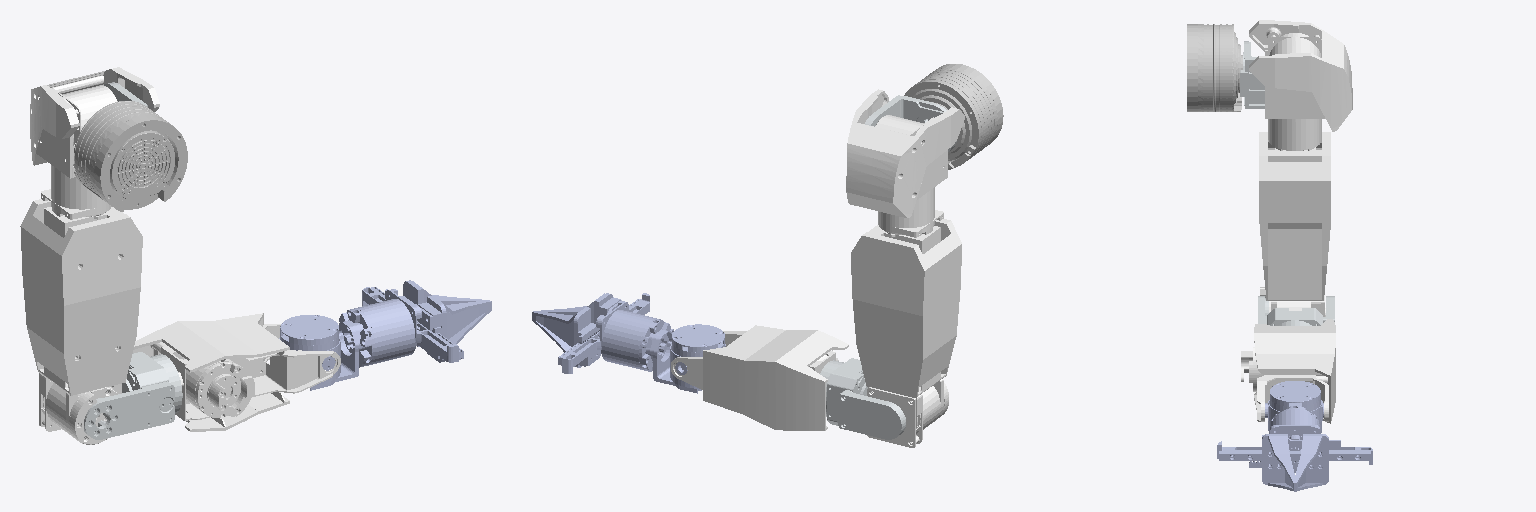
robot.urdf — X78009LEFTB:
<?xml version="1.0" encoding="utf-8"?>
<!-- This URDF was automatically created by SolidWorks to URDF Exporter! Originally created by [author] ([email redacted]) 
     Commit Version: 1.6.0-4-g7f85cfe  Build Version: 1.6.7995.38578
     For more information, please see http://wiki.ros.org/sw_urdf_exporter -->
<robot
  name="X78009LEFTB">
  <link
    name="base_link">
    <inertial>
      <origin
        xyz="-8.1774E-05 0.031222 0.00027074"
        rpy="0 0 0" />
      <mass
        value="0.98057" />
      <inertia
        ixx="0.00080"
        ixy="0.00000"
        ixz="0.00000"
        iyy="0.00117"
        iyz="-0.00003"
        izz="0.00081" />
    </inertial>
    <visual>
      <origin
        xyz="0 0 0"
        rpy="0 0 0" />
      <geometry>
        <mesh
          filename="package://X78009LEFTB/meshes/base_link.STL" />
      </geometry>
      <material
        name="">
        <color
          rgba="0.84706 0.84706 0.84706 1" />
      </material>
    </visual>
    <collision>
      <origin
        xyz="0 0 0"
        rpy="0 0 0" />
      <geometry>
        <mesh
          filename="package://X78009LEFTB/meshes/base_link.STL" />
      </geometry>
    </collision>
  </link>
  <link
    name="link1">
    <inertial>
      <origin
        xyz="0.022412 0.024326 -4.8572E-17"
        rpy="0 0 0" />
      <mass
        value="0.12945" />
      <inertia
        ixx="0.00012"
        ixy="0.00003"
        ixz="0.00000"
        iyy="0.00008"
        iyz="0.00000"
        izz="0.00013" />
    </inertial>
    <visual>
      <origin
        xyz="0 0 0"
        rpy="0 0 0" />
      <geometry>
        <mesh
          filename="package://X78009LEFTB/meshes/link1.STL" />
      </geometry>
      <material
        name="">
        <color
          rgba="0.89804 0.91765 0.92941 1" />
      </material>
    </visual>
    <collision>
      <origin
        xyz="0 0 0"
        rpy="0 0 0" />
      <geometry>
        <mesh
          filename="package://X78009LEFTB/meshes/link1.STL" />
      </geometry>
    </collision>
  </link>
  <joint
    name="joint1"
    type="revolute">
    <origin
      xyz="0 0.0617 0"
      rpy="0 0 0" />
    <parent
      link="base_link" />
    <child
      link="link1" />
    <axis
      xyz="0 1 0" />
    <limit
      lower="-10"
      upper="10"
      effort="100"
      velocity="1000" />
  </joint>
  <link
    name="link2">
    <inertial>
      <origin
        xyz="0.0247134210687121 -0.00294496183639092 -0.027169062592597"
        rpy="0 0 0" />
      <mass
        value="0.974393846684392" />
      <inertia
        ixx="0.00152"
        ixy="0.00002"
        ixz="-0.00007"
        iyy="0.00152"
        iyz="-0.00003"
        izz="0.00073" />
    </inertial>
    <visual>
      <origin
        xyz="0 0 0"
        rpy="0 0 0" />
      <geometry>
        <mesh
          filename="package://X78009LEFTB/meshes/link2.STL" />
      </geometry>
      <material
        name="">
        <color
          rgba="1 1 1 1" />
      </material>
    </visual>
    <collision>
      <origin
        xyz="0 0 0"
        rpy="0 0 0" />
      <geometry>
        <mesh
          filename="package://X78009LEFTB/meshes/link2.STL" />
      </geometry>
    </collision>
  </link>
  <joint
    name="joint2"
    type="revolute">
    <origin
      xyz="0.02725 0.0585 0"
      rpy="0 0 -3.1416" />
    <parent
      link="link1" />
    <child
      link="link2" />
    <axis
      xyz="1 0 0" />
    <limit
      lower="-10"
      upper="10"
      effort="100"
      velocity="1000" />
  </joint>
  <link
    name="link3">
    <inertial>
      <origin
        xyz="-0.00022186391973112 0.000502563433391168 0.156407081046064"
        rpy="0 0 0" />
      <mass
        value="0.867056958652702" />
      <inertia
        ixx="0.00529"
        ixy="-0.00001"
        ixz="-0.00005"
        iyy="0.00533"
        iyz="0.00002"
        izz="0.00078" />
    </inertial>
    <visual>
      <origin
        xyz="0 0 0"
        rpy="0 0 0" />
      <geometry>
        <mesh
          filename="package://X78009LEFTB/meshes/link3.STL" />
      </geometry>
      <material
        name="">
        <color
          rgba="1 1 1 1" />
      </material>
    </visual>
    <collision>
      <origin
        xyz="0 0 0"
        rpy="0 0 0" />
      <geometry>
        <mesh
          filename="package://X78009LEFTB/meshes/link3.STL" />
      </geometry>
    </collision>
  </link>
  <joint
    name="joint3"
    type="revolute">
    <origin
      xyz="0.02725 0 -0.0865"
      rpy="3.1416 0 3.1416" />
    <parent
      link="link2" />
    <child
      link="link3" />
    <axis
      xyz="0 0 1" />
    <limit
      lower="-10"
      upper="10"
      effort="100"
      velocity="1000" />
  </joint>
  <link
    name="link4">
    <inertial>
      <origin
        xyz="0.061399 -0.02553 3.2378E-05"
        rpy="0 0 0" />
      <mass
        value="0.4792" />
      <inertia
        ixx="0.00037"
        ixy="0.00000"
        ixz="0.00000"
        iyy="0.00041"
        iyz="0.00000"
        izz="0.00057" />
    </inertial>
    <visual>
      <origin
        xyz="0 0 0"
        rpy="0 0 0" />
      <geometry>
        <mesh
          filename="package://X78009LEFTB/meshes/link4.STL" />
      </geometry>
      <material
        name="">
        <color
          rgba="0.89804 0.91765 0.92941 1" />
      </material>
    </visual>
    <collision>
      <origin
        xyz="0 0 0"
        rpy="0 0 0" />
      <geometry>
        <mesh
          filename="package://X78009LEFTB/meshes/link4.STL" />
      </geometry>
    </collision>
  </link>
  <joint
    name="joint4"
    type="revolute">
    <origin
      xyz="0 0.02725 0.2165"
      rpy="0 0 0" />
    <parent
      link="link3" />
    <child
      link="link4" />
    <axis
      xyz="0 1 0" />
    <limit
      lower="-10"
      upper="10"
      effort="100"
      velocity="1000" />
  </joint>
  <link
    name="link5">
    <inertial>
      <origin
        xyz="0.053074 -0.0086601 -4.0742E-05"
        rpy="0 0 0" />
      <mass
        value="0.58474" />
      <inertia
        ixx="0.00057"
        ixy="0.00006"
        ixz="0.00000"
        iyy="0.00094"
        iyz="0.00000"
        izz="0.00109" />
    </inertial>
    <visual>
      <origin
        xyz="0 0 0"
        rpy="0 0 0" />
      <geometry>
        <mesh
          filename="package://X78009LEFTB/meshes/link5.STL" />
      </geometry>
      <material
        name="">
        <color
          rgba="1 1 1 1" />
      </material>
    </visual>
    <collision>
      <origin
        xyz="0 0 0"
        rpy="0 0 0" />
      <geometry>
        <mesh
          filename="package://X78009LEFTB/meshes/link5.STL" />
      </geometry>
    </collision>
  </link>
  <joint
    name="joint5"
    type="revolute">
    <origin
      xyz="0.0935 -0.02725 0"
      rpy="-3.1416 0 0" />
    <parent
      link="link4" />
    <child
      link="link5" />
    <axis
      xyz="1 0 0" />
    <limit
      lower="-10"
      upper="10"
      effort="100"
      velocity="1000" />
  </joint>
  <link
    name="link6">
    <inertial>
      <origin
        xyz="-4.6593E-05 -0.037017 0.0011473"
        rpy="0 0 0" />
      <mass
        value="0.33289" />
      <inertia
        ixx="0.00013"
        ixy="0.00000"
        ixz="0.00000"
        iyy="0.00012"
        iyz="0.00000"
        izz="0.00015" />
    </inertial>
    <visual>
      <origin
        xyz="0 0 0"
        rpy="0 0 0" />
      <geometry>
        <mesh
          filename="package://X78009LEFTB/meshes/link6.STL" />
      </geometry>
      <material
        name="">
        <color
          rgba="0.79216 0.81961 0.93333 1" />
      </material>
    </visual>
    <collision>
      <origin
        xyz="0 0 0"
        rpy="0 0 0" />
      <geometry>
        <mesh
          filename="package://X78009LEFTB/meshes/link6.STL" />
      </geometry>
    </collision>
  </link>
  <joint
    name="joint6"
    type="revolute">
    <origin
      xyz="0.1615 -0.03725 0"
      rpy="-3.1416 0 0" />
    <parent
      link="link5" />
    <child
      link="link6" />
    <axis
      xyz="0 1 0" />
    <limit
      lower="-10"
      upper="10"
      effort="100"
      velocity="1000" />
  </joint>
  <link
    name="link7">
    <inertial>
      <origin
        xyz="0.090438 -4.593E-05 0.020328"
        rpy="0 0 0" />
      <mass
        value="0.8" />
      <inertia
        ixx="0.00049"
        ixy="0.00000"
        ixz="0.00008"
        iyy="0.00078"
        iyz="0.00000"
        izz="0.00102" />
    </inertial>
    <visual>
      <origin
        xyz="0 0 0"
        rpy="0 0 0" />
      <geometry>
        <mesh
          filename="package://X78009LEFTB/meshes/link7.STL" />
      </geometry>
      <material
        name="">
        <color
          rgba="0.79216 0.81961 0.93333 1" />
      </material>
    </visual>
    <collision>
      <origin
        xyz="0 0 0"
        rpy="0 0 0" />
      <geometry>
        <mesh
          filename="package://X78009LEFTB/meshes/link7.STL" />
      </geometry>
    </collision>
  </link>
  <joint
    name="joint7"
    type="revolute">
    <origin
      xyz="0 -0.03725 0.022"
      rpy="3.1416 0 0" />
    <parent
      link="link6" />
    <child
      link="link7" />
    <axis
      xyz="0 0 -1" />
    <limit
      lower="-10"
      upper="10"
      effort="100"
      velocity="1000" />
  </joint>
</robot>

--- What the picture shows (computed from the rendered views, not written in the file) ---
The picture shows the robot from 3 angles, left to right: view 1: azimuth 30°, elevation 25°; view 2: azimuth 150°, elevation 25°; view 3: azimuth 270°, elevation 25°; orthographic projection.
Robot: X78009LEFTB — 8 links, 7 joints (7 revolute); root link base_link; default pose: all joints at 0.
Visible links, largest first — view 1: link3, link5, base_link, link7, link2, link4, link6; view 2: link3, link5, link2, link7, base_link, link4, link6, link1; view 3: link3, link2, link7, link5, base_link, link6, link4, link1.
Link boxes in pixels (x1,y1,x2,y2): link3: [20, 199, 142, 444]; link5: [133, 313, 340, 431]; base_link: [74, 101, 187, 211]; link7: [310, 280, 491, 390]; link2: [30, 67, 159, 219]; link4: [84, 352, 182, 439]; link6: [279, 315, 340, 384]; link3: [851, 219, 961, 447]; link5: [671, 325, 848, 430]; link2: [846, 89, 964, 237]; link7: [532, 293, 701, 393]; base_link: [904, 64, 1003, 169]; link4: [820, 358, 905, 439]; link6: [670, 324, 725, 388]; link1: [865, 95, 956, 151]; link3: [1259, 132, 1330, 316]; link2: [1249, 20, 1352, 150]; link7: [1217, 406, 1372, 491]; link5: [1241, 319, 1335, 423]; base_link: [1187, 24, 1242, 111]; link6: [1265, 381, 1323, 433]; link4: [1258, 296, 1334, 325]; link1: [1240, 41, 1264, 108].
Size in the robot's own frame: 0.5064 by 0.208 by 0.392 metres.
Meshes: 8 distinct files referenced, 8 mesh visuals loaded (8 binary STL).